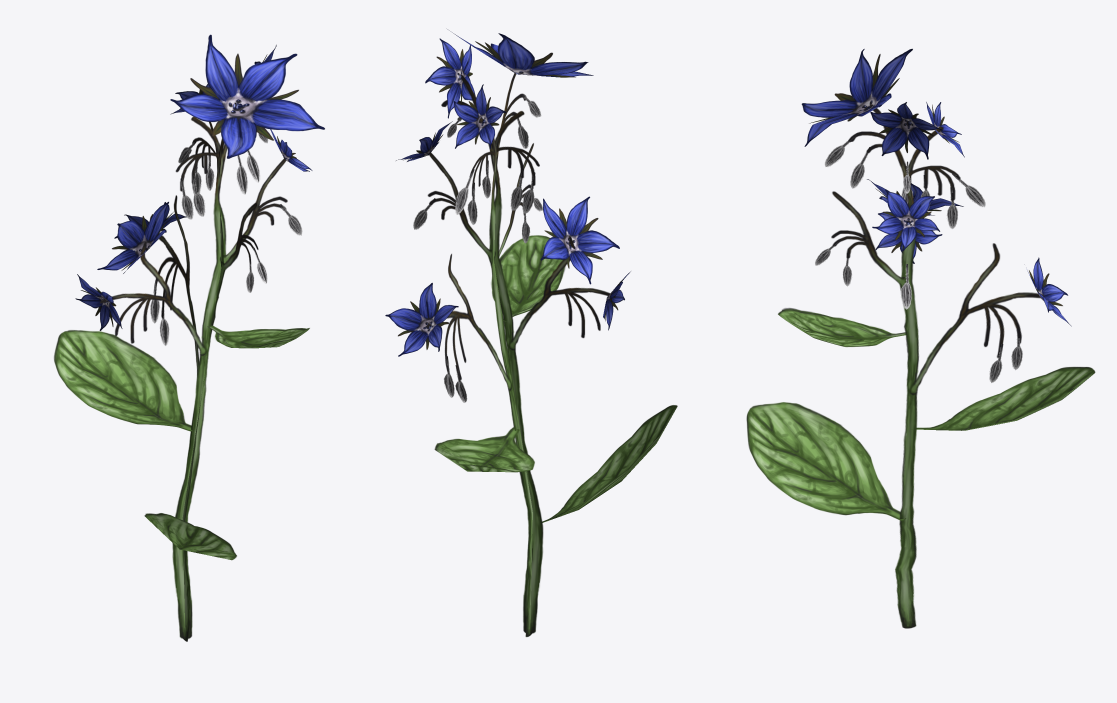
The model's file is bulrush.glb.
3 renders of one model, left to right at view 1: azimuth 30°, elevation 25°; view 2: azimuth 150°, elevation 25°; view 3: azimuth 270°, elevation 25°, orthographic.
Visible parts, largest first — view 1: Object_4; view 2: Object_4; view 3: Object_4.
Part boxes in pixels (x1,y1,x2,y2): Object_4: [54, 34, 324, 641]; Object_4: [385, 29, 677, 636]; Object_4: [746, 48, 1095, 628].
Bounding box in the file's own units: 4.79 × 11.75 × 6.92.
1 material, 1 textured.
